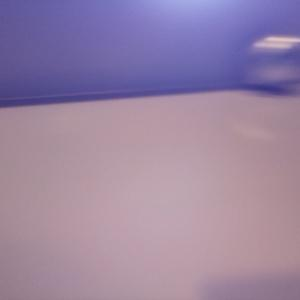alive_ball: (248, 35, 300, 90)
